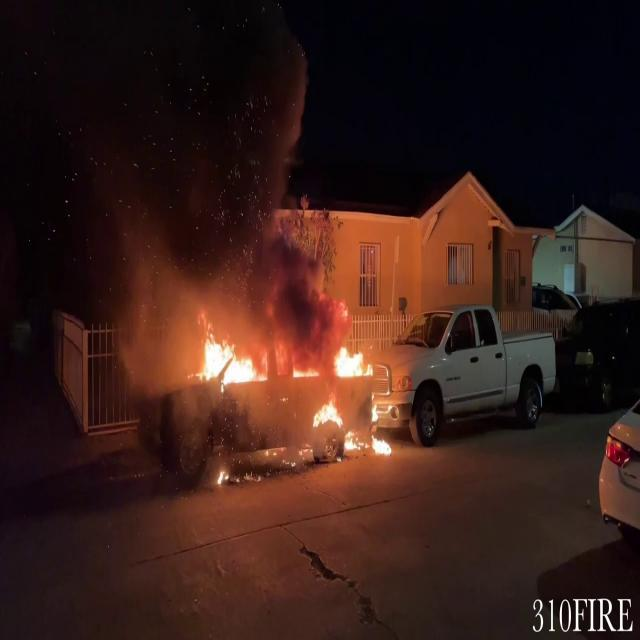Fire: (310, 333, 395, 456), (193, 326, 259, 388)
Smoke: (106, 3, 344, 366)
